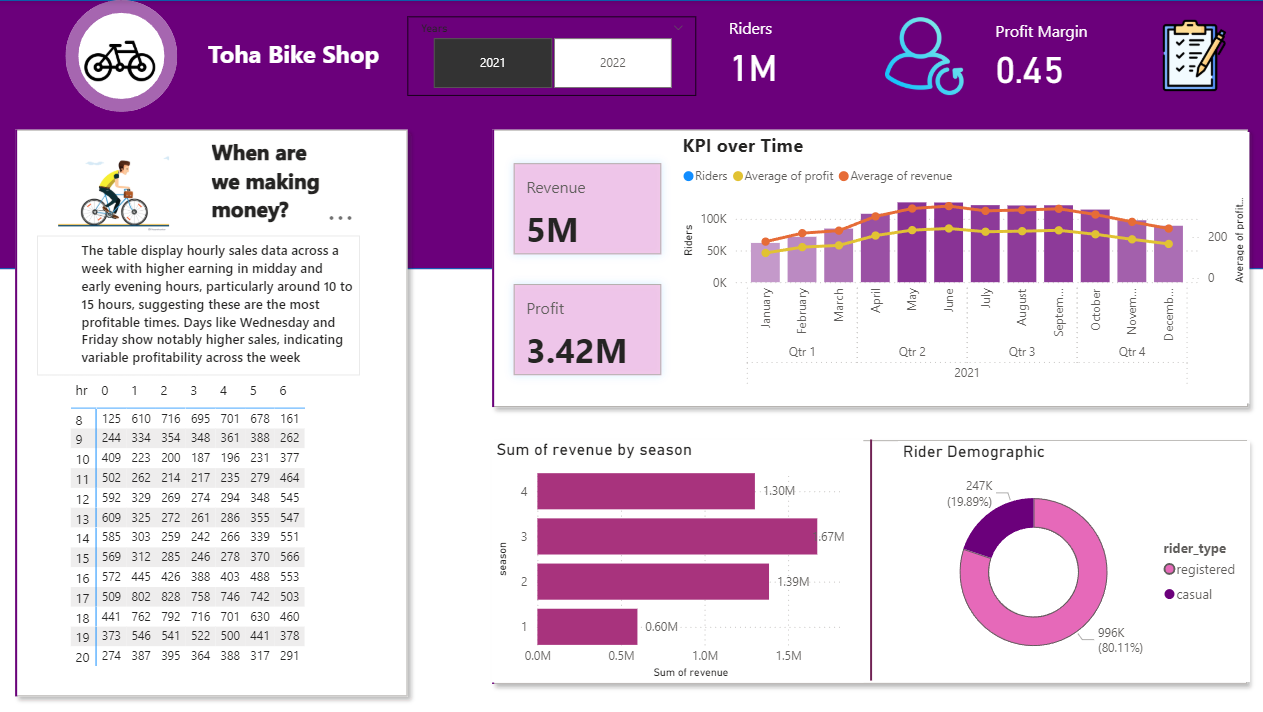

The dashboard page shown, as its layout file describes it:
{"tool":"powerbi","page":{"name":"Page 1","canvas":[1280,720],"ordinal":0},"visuals":[{"type":"shape","box":[0,0,1280,271.7],"z":0},{"type":"cardVisual","fields":{"Data":["Sum(Query1.riders)"]},"box":[0,113.3,430,606.7],"z":1000},{"type":"cardVisual","fields":{"Data":["Sum(Query1.riders)"]},"box":[481.4,112.9,797.1,314.3],"z":2000,"group":"g2"},{"type":"cardVisual","fields":{"Data":["Sum(Query1.riders)"]},"box":[481.7,426.7,796.7,280],"z":2000,"group":"g3"},{"type":"cardVisual","fields":{"Data":["Sum(Query1.riders)"]},"box":[40,133.3,158.3,121.7],"z":3000},{"type":"pivotTable","fields":{"Rows":["Query1.hr"],"Values":["Avg(Query1.revenue)"],"Columns":["Query1.weekday"]},"box":[68.3,378.3,281.7,308.3],"z":4000},{"type":"textbox","box":[210,133.3,140,105],"z":5000},{"type":"textbox","box":[40,238.3,325,140],"z":6000},{"type":"clusteredBarChart","fields":{"Category":["Query1.season"],"Y":["Sum(Query1.revenue)"]},"box":[498.4,443,375,245],"z":7000,"group":"g3"},{"type":"lineClusteredColumnComboChart","title":"KPI over Time","fields":{"Y":["Sum(Query1.riders)"],"Category":["Query1.dteday.Variation.Date Hierarchy.Year","Query1.dteday.Variation.Date Hierarchy.Quarter","Query1.dteday.Variation.Date Hierarchy.Month","Query1.dteday.Variation.Date Hierarchy.Day"],"Y2":["Avg(Query1.profit)","Avg(Query1.revenue)"]},"box":[685.7,132.9,577.1,274.3],"z":8000,"group":"g2"},{"type":"donutChart","title":"Rider Demographic","fields":{"Category":["Query1.rider_type"],"Y":["Sum(Query1.riders)"]},"box":[908.4,445,355,243.3],"z":8000,"group":"g3"},{"type":"shape","box":[731.7,443.4,300,243.3],"z":9000,"group":"g3"},{"type":"cardVisual","fields":{"Data":["Sum(Query1.riders)","Query1.Profit Margin"]},"box":[721.4,0,541.4,112.9],"z":10000},{"type":"textbox","box":[197.6,31.4,200,47.1],"z":11000},{"type":"slicer","fields":{"Values":["Query1.Years"]},"box":[413.8,17.1,291.4,80],"z":12000},{"type":"cardVisual","title":"KPI over Time","fields":{"Data":["Sum(Query1.revenue)","Sum(Query1.profit)"]},"box":[504.3,147.2,181.4,247.1],"z":12000,"group":"g2"},{"type":"group","id":"g1","title":"Group 1","box":[68.6,0,112.9,112.9],"z":13000},{"type":"shape","box":[68.6,0,112.9,112.9],"z":14000,"group":"g1"},{"type":"group","id":"g2","title":"Group 2","box":[481.4,112.9,797.1,314.3],"z":14000},{"type":"group","id":"g3","title":"Group 3","box":[481.7,426.7,796.7,280],"z":14001},{"type":"image","box":[82.9,0,85.7,88.6],"z":15000,"group":"g1"}]}

Visuals, with their boxes in screenshot pixels (x1, y1, x2, y2), scaled from the page's 1280x720 canvas onto the 1263x712 screenshot:
shape: l=0, t=0, r=1262, b=269
cardVisual - Sum(Query1.riders): l=0, t=112, r=424, b=711
cardVisual - Sum(Query1.riders): l=475, t=112, r=1262, b=422
cardVisual - Sum(Query1.riders): l=475, t=422, r=1261, b=699
cardVisual - Sum(Query1.riders): l=39, t=132, r=196, b=252
pivotTable - Query1.hr x Avg(Query1.revenue): l=67, t=374, r=345, b=679
textbox: l=207, t=132, r=345, b=236
textbox: l=39, t=236, r=360, b=374
clusteredBarChart - Query1.season x Sum(Query1.revenue): l=492, t=438, r=862, b=680
"KPI over Time" lineClusteredColumnComboChart: l=677, t=131, r=1246, b=403
"Rider Demographic" donutChart: l=896, t=440, r=1247, b=681
shape: l=722, t=438, r=1018, b=679
cardVisual - Sum(Query1.riders) x Query1.Profit Margin: l=712, t=0, r=1246, b=112
textbox: l=195, t=31, r=392, b=78
slicer - Query1.Years: l=408, t=17, r=696, b=96
"KPI over Time" cardVisual: l=498, t=146, r=677, b=390
"Group 1" group: l=68, t=0, r=179, b=112
shape: l=68, t=0, r=179, b=112
"Group 2" group: l=475, t=112, r=1262, b=422
"Group 3" group: l=475, t=422, r=1261, b=699
image: l=82, t=0, r=166, b=88
